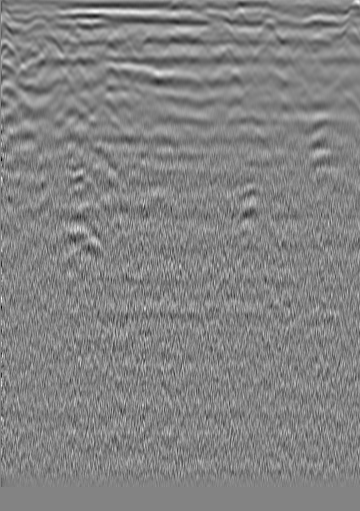가스: (233, 178, 266, 204)
상수: (6, 13, 26, 33)
우수: (135, 34, 155, 54)
